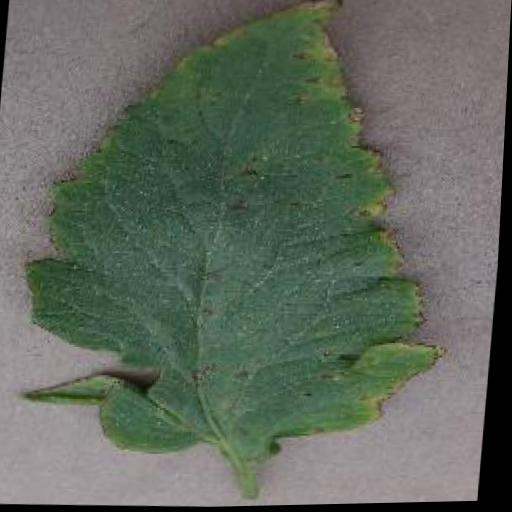Bacterial Spot: (8, 0, 479, 471)
